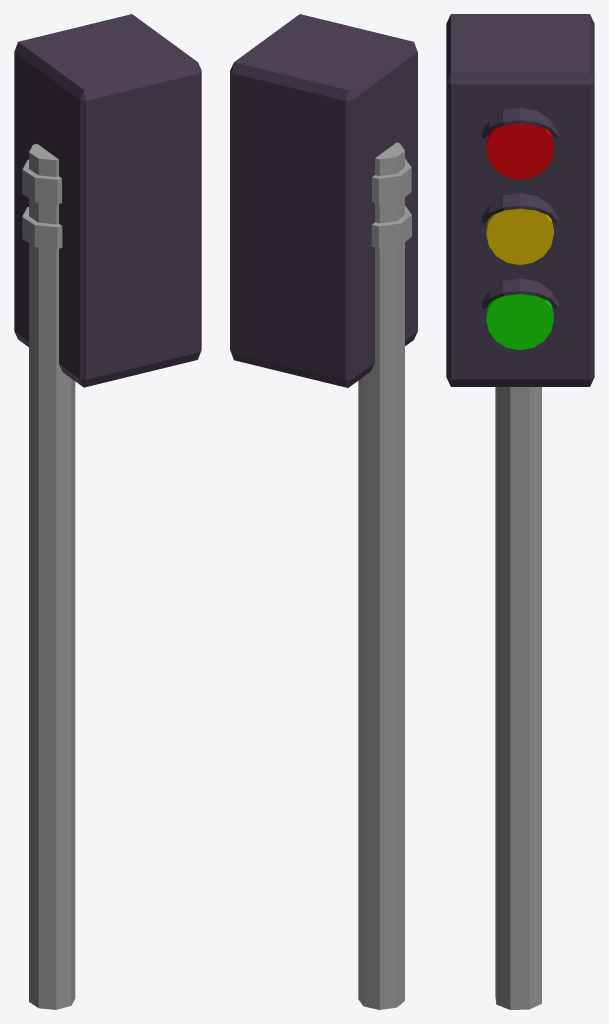
The model's file is Ampel.glb.
The picture shows the model from 3 angles, left to right: view 1: azimuth 30°, elevation 25°; view 2: azimuth 150°, elevation 25°; view 3: azimuth 270°, elevation 25°; orthographic projection. The views are drawn at different scales.
Parts seen in each view (by area): view 1: Cube.001, Cylinder; view 2: Cube.001, Cylinder; view 3: Cube.001, Cylinder, Cylinder.001, Plane.001.
Boxes of the visible parts, x1=… form: Cube.001: x1=14, y1=14, x2=201, y2=387; Cylinder: x1=22, y1=143, x2=75, y2=1009; Cube.001: x1=230, y1=14, x2=417, y2=387; Cylinder: x1=358, y1=142, x2=411, y2=1009; Cube.001: x1=446, y1=14, x2=594, y2=386; Cylinder: x1=495, y1=387, x2=541, y2=1009; Cylinder.001: x1=486, y1=123, x2=553, y2=350; Plane.001: x1=481, y1=108, x2=558, y2=308.
Size of the model in its own units: 0.5682 by 3.05 by 0.416.
